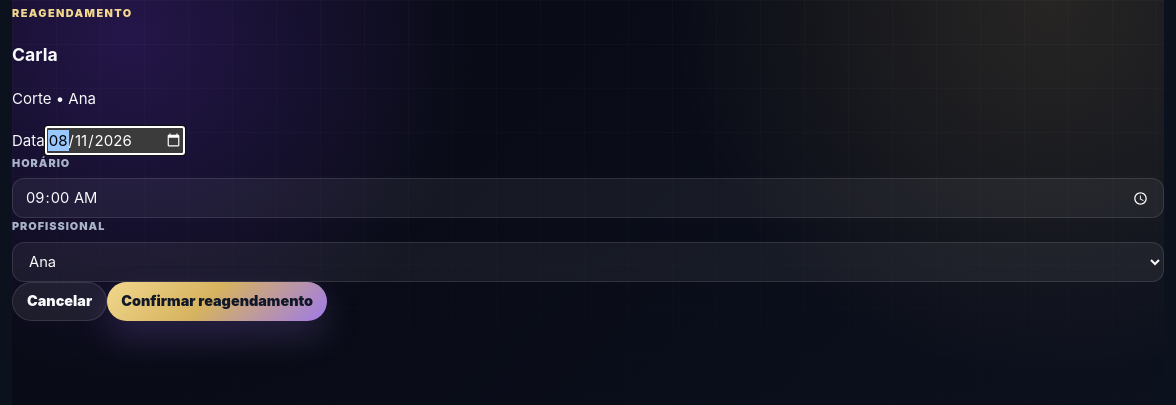
Scenario: AgendaRescheduleForm › mantém o formulário aberto e anuncia conflito retornado pela API
The width and height of the screenshot is (1176, 405).
Click the button "Confirmar reagendamento" at x=217, y=301, box [107,282,327,321]
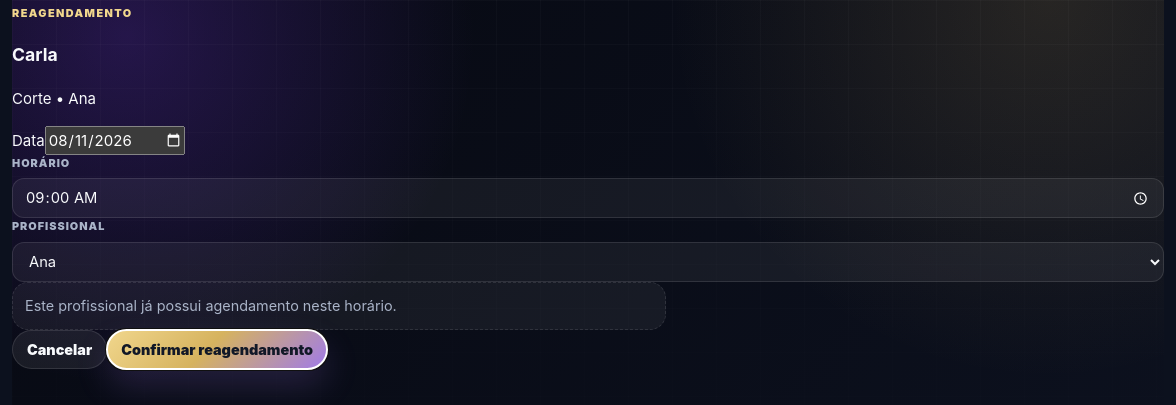
Check: the message reads "Este profissional já possui agendamento neste horário.", box [25,297,397,314]
